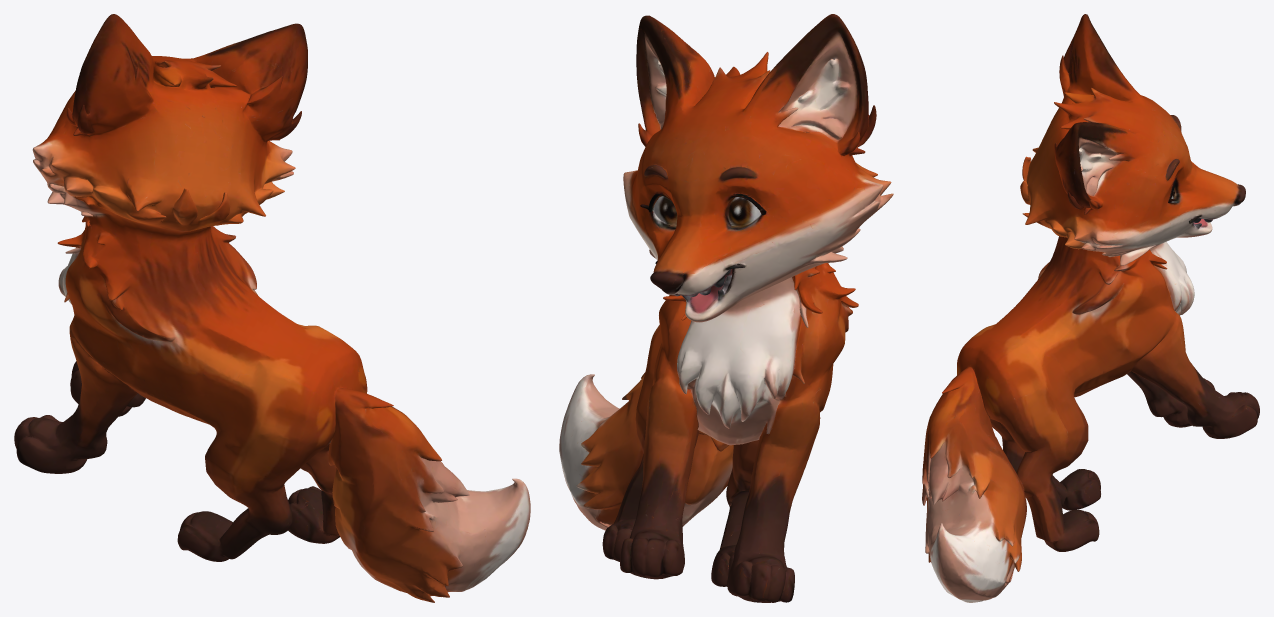
The model's file is pixal3d.glb.
The picture shows the model from 3 angles, left to right: view 1: azimuth 30°, elevation 25°; view 2: azimuth 150°, elevation 25°; view 3: azimuth 270°, elevation 25°; orthographic projection. The views are drawn at different scales.
Visible parts, largest first — view 1: world; view 2: world; view 3: world.
Boxes of the visible parts, x1,y1,x2,y2 form: world: [14, 14, 530, 602]; world: [559, 14, 893, 602]; world: [922, 14, 1259, 602].
Bounding box in the file's own units: 0.6522 × 0.9354 × 0.5957.
Materials: 1 (1 with a texture image).
